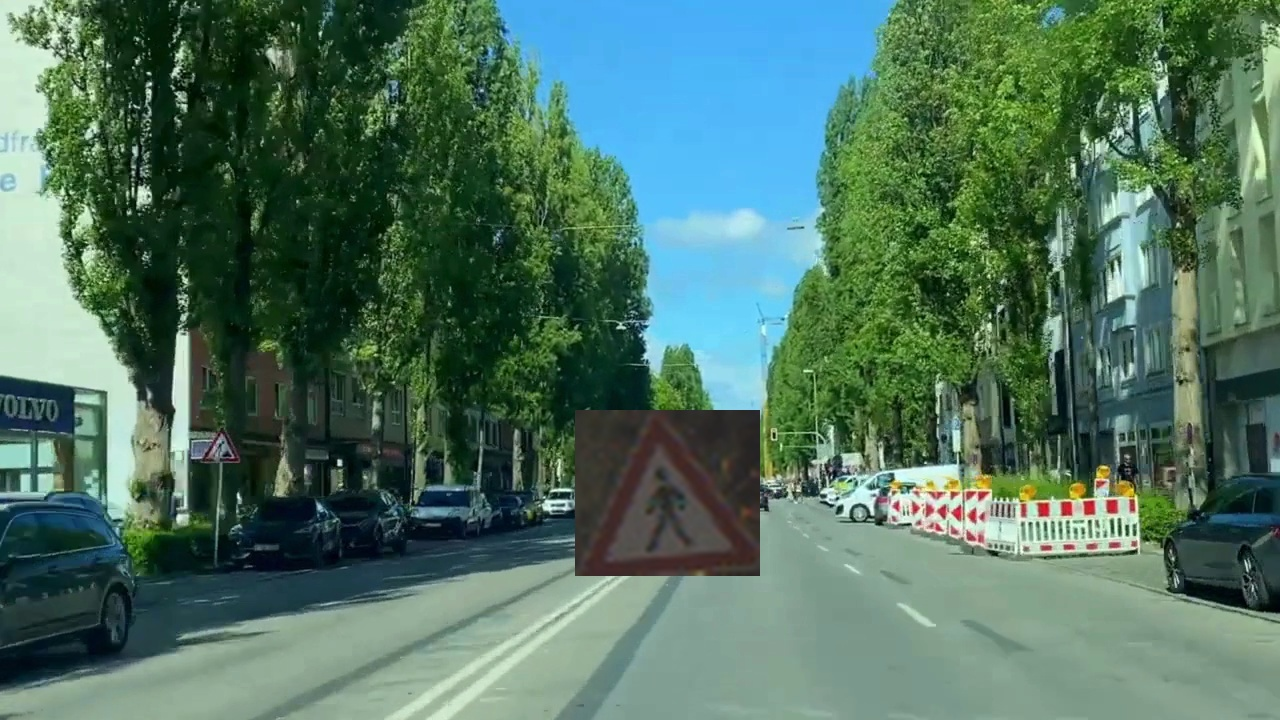Pedestrians: (575, 410, 760, 576)
